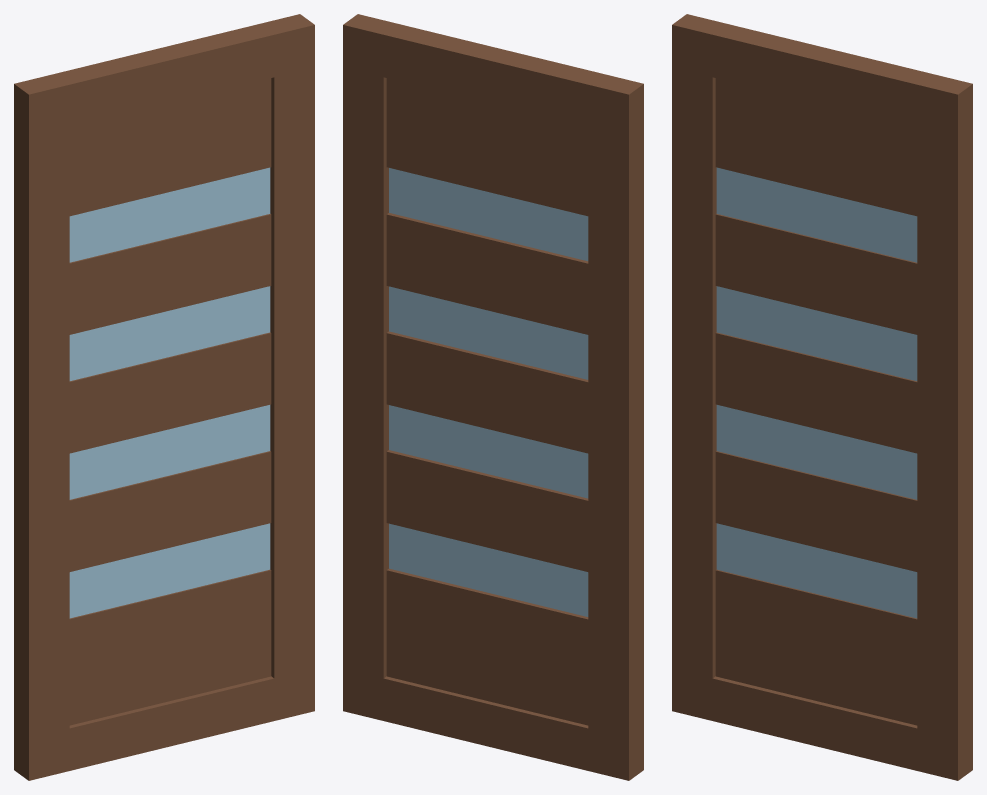
File: Door5_C5.fbx
3 views of the same model, side by side, from view 1: azimuth 30°, elevation 25°; view 2: azimuth 150°, elevation 25°; view 3: azimuth 330°, elevation 25° (orthographic).
Parts seen in each view (by area): view 1: Door5_C5; view 2: Door5_C5; view 3: Door5_C5.
Boxes of the visible parts, x1,y1,x2,y2 form: Door5_C5: (14, 14, 314, 780); Door5_C5: (343, 14, 643, 780); Door5_C5: (672, 14, 972, 780).
Bounding box in the file's own units: 0.89 × 2.04 × 0.08.
